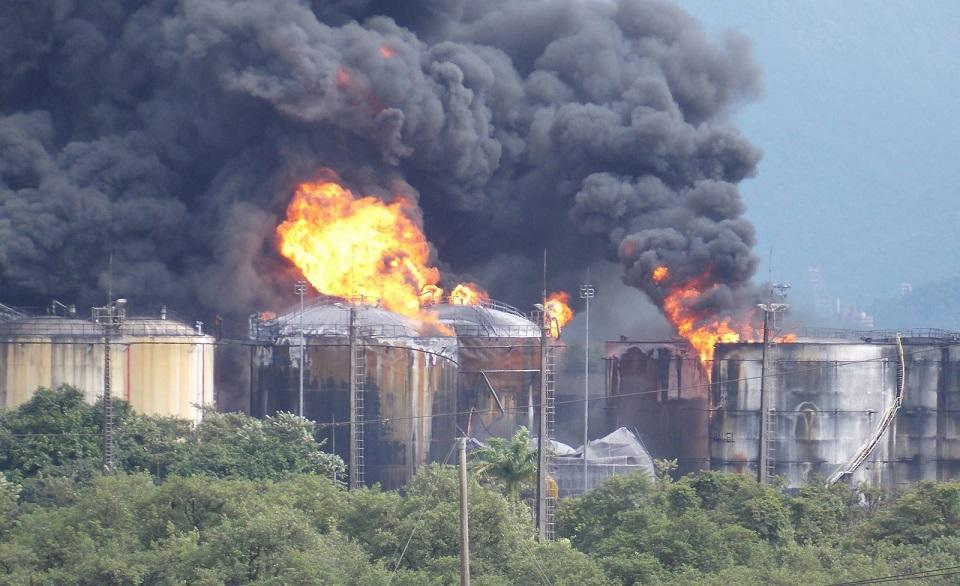fire: (291, 190, 436, 299), (686, 313, 770, 344), (543, 290, 570, 339)
smoke: (41, 0, 731, 169)
